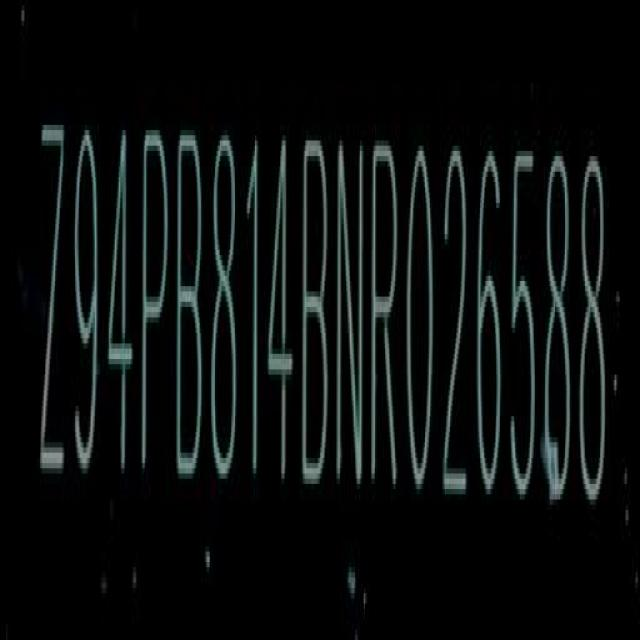0: (407, 146, 437, 501)
1: (246, 132, 261, 492)
2: (443, 148, 472, 503)
4: (108, 123, 136, 486), (268, 132, 296, 492)
5: (509, 141, 538, 502)
6: (475, 146, 502, 504)
8: (577, 155, 608, 510), (545, 150, 574, 508), (211, 130, 239, 488)
9: (72, 125, 101, 489)
B: (302, 133, 333, 490), (177, 126, 207, 484)
N: (339, 132, 368, 496)
P: (138, 124, 169, 486)
R: (370, 136, 401, 493)
Z: (41, 116, 68, 493)
